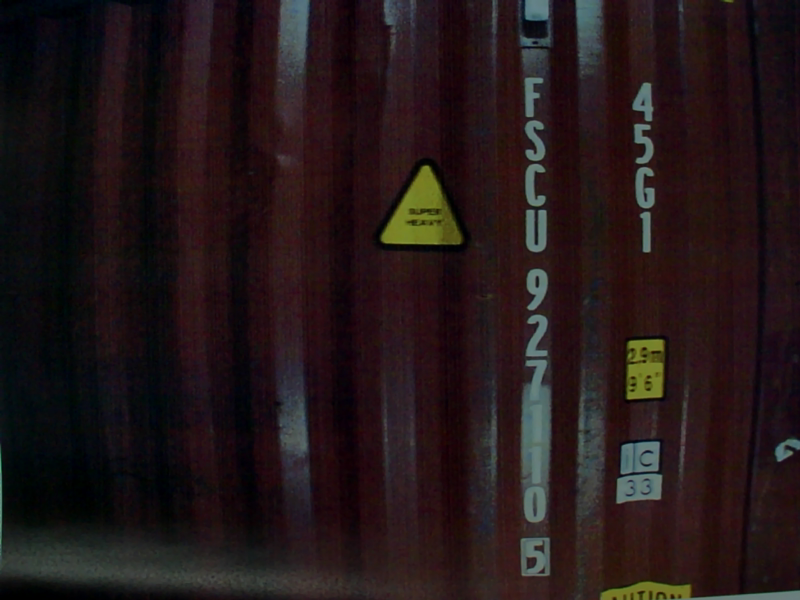container_no_door: (76, 15, 768, 545)
